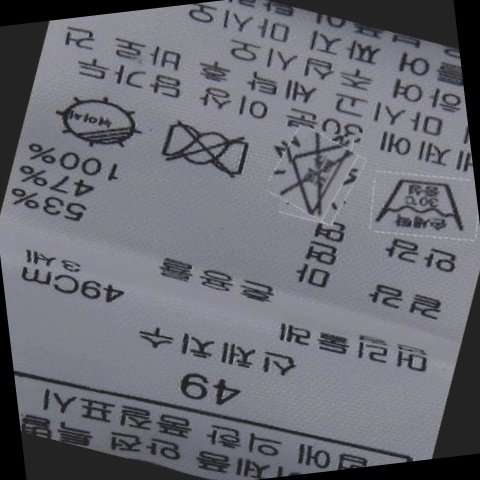DN_wring: (155, 117, 262, 180)
dry_flat_in_shade: (51, 89, 149, 155)
hand_wash: (373, 173, 471, 242)
non_chlorine_bleach: (274, 141, 358, 218)
